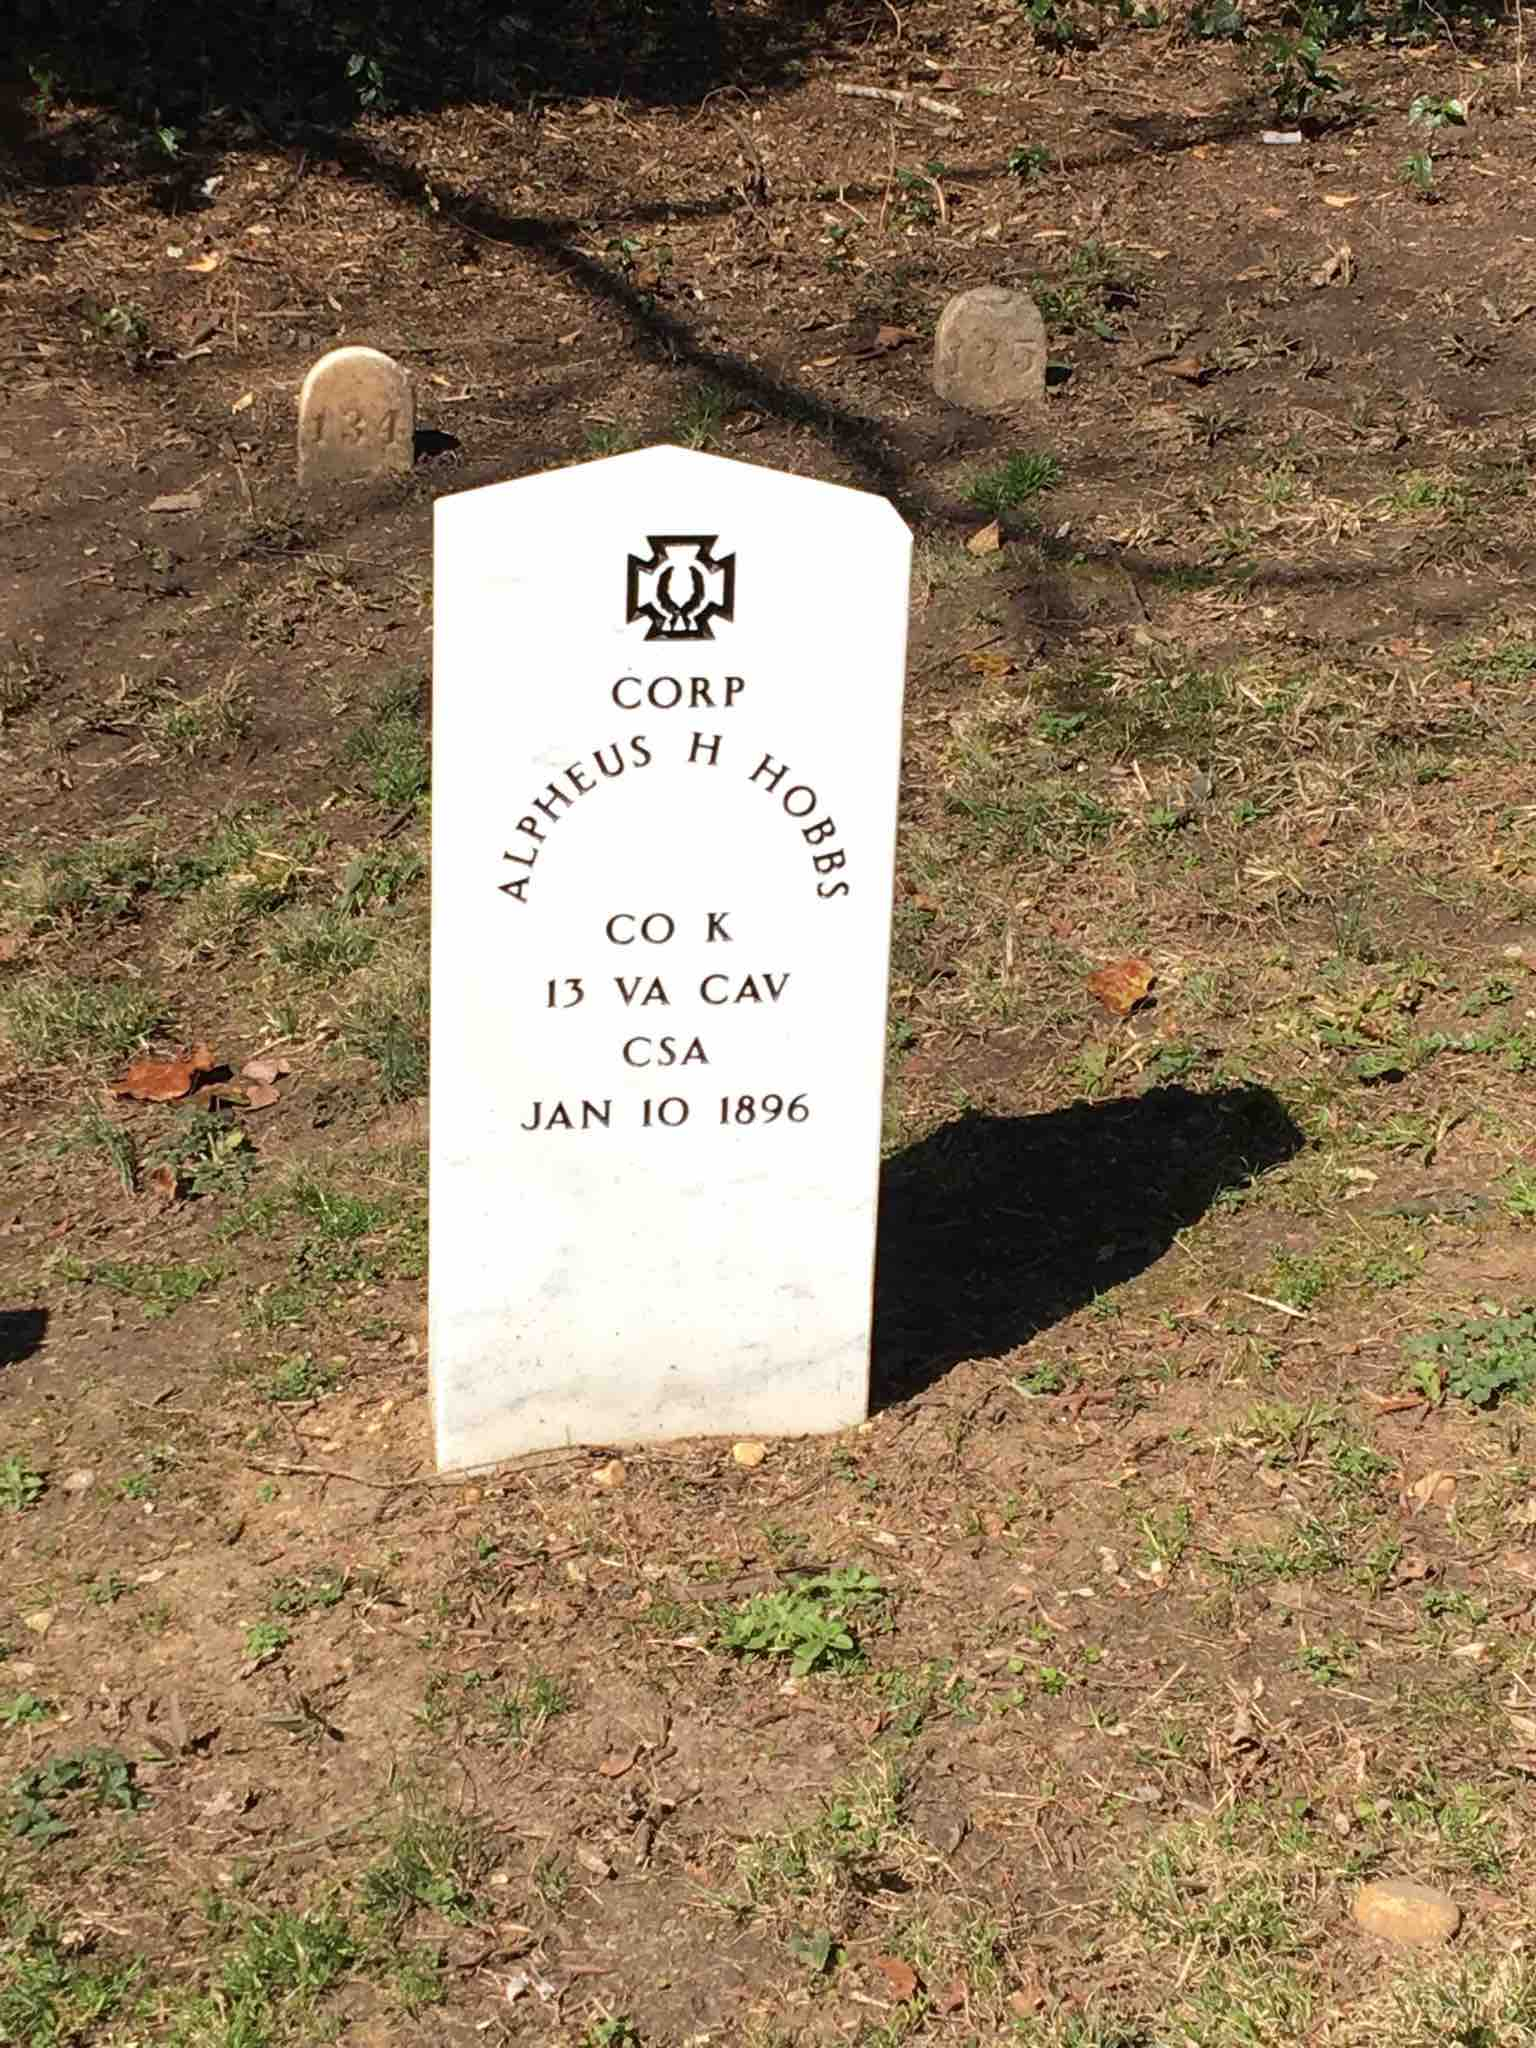military: (428, 450, 907, 1450)
